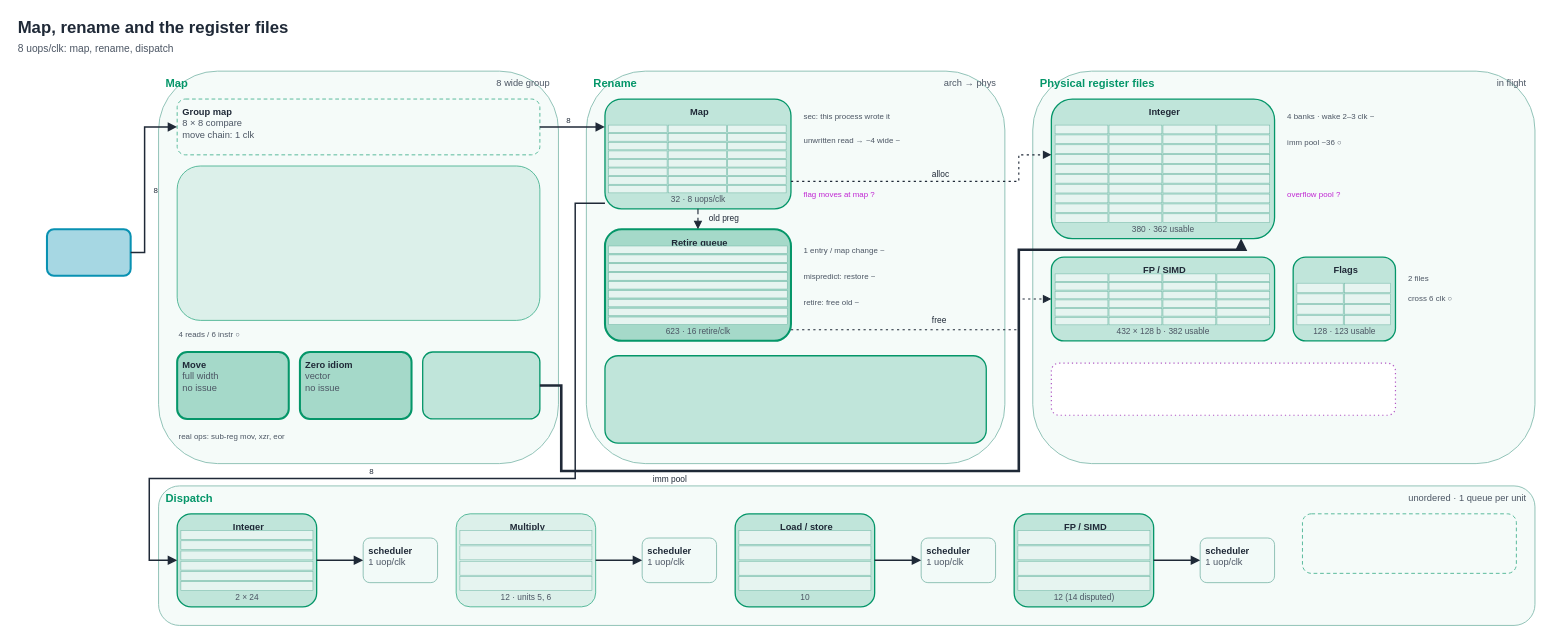
Image size: 1551x642. Some labels were removed from this diagram. Each missing label, with the centre of its shape:
"Decode 8 instr/clk" belongs at point (88, 252).
"Fusion" belongs at point (358, 242).
"MOV imm 2 / 8 instr 8 / 8 disputed no issue" belongs at point (481, 385).
"Special registers spec write · retire commit" belongs at point (1223, 388).
"Stall full → stall 8 uops/clk" belongs at point (1409, 543).
"Windows" belongs at point (795, 399).
